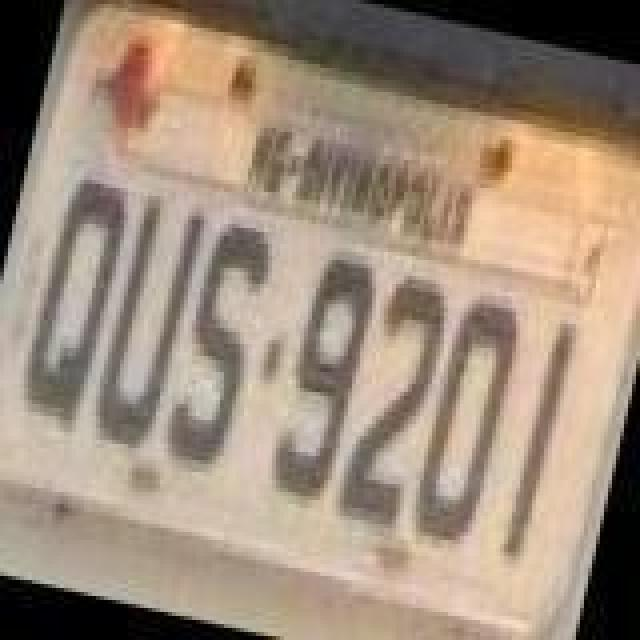1: (500, 318, 580, 562)
2: (330, 264, 454, 536)
9: (262, 248, 386, 512)
O: (406, 288, 530, 552)
Q: (10, 170, 134, 438)
S: (154, 212, 278, 476)
U: (84, 184, 212, 456)
